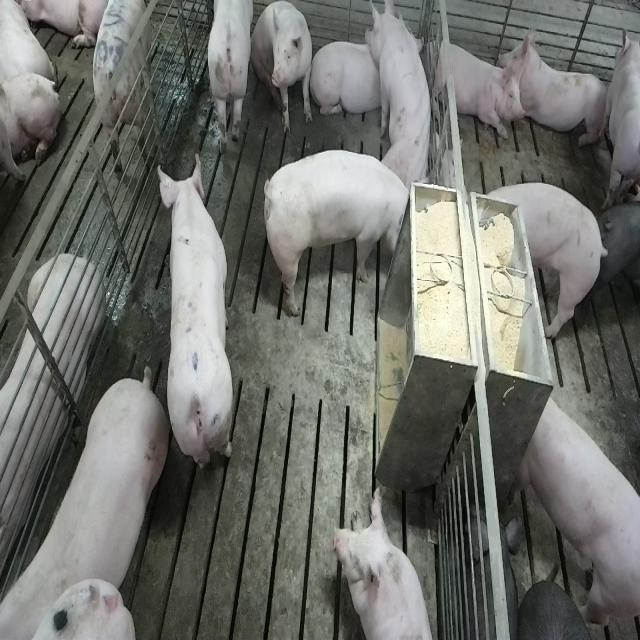Feeding: (267, 144, 417, 323)
Sitting: (366, 0, 436, 185), (252, 0, 314, 135)
Standing: (517, 392, 638, 631), (157, 153, 234, 479), (502, 176, 610, 334), (88, 1, 157, 173), (204, 2, 255, 151), (605, 21, 640, 207), (595, 198, 640, 321)
Sternal_lying: (0, 249, 102, 579), (333, 481, 438, 640), (502, 19, 610, 146), (426, 29, 523, 141), (312, 35, 384, 121)
